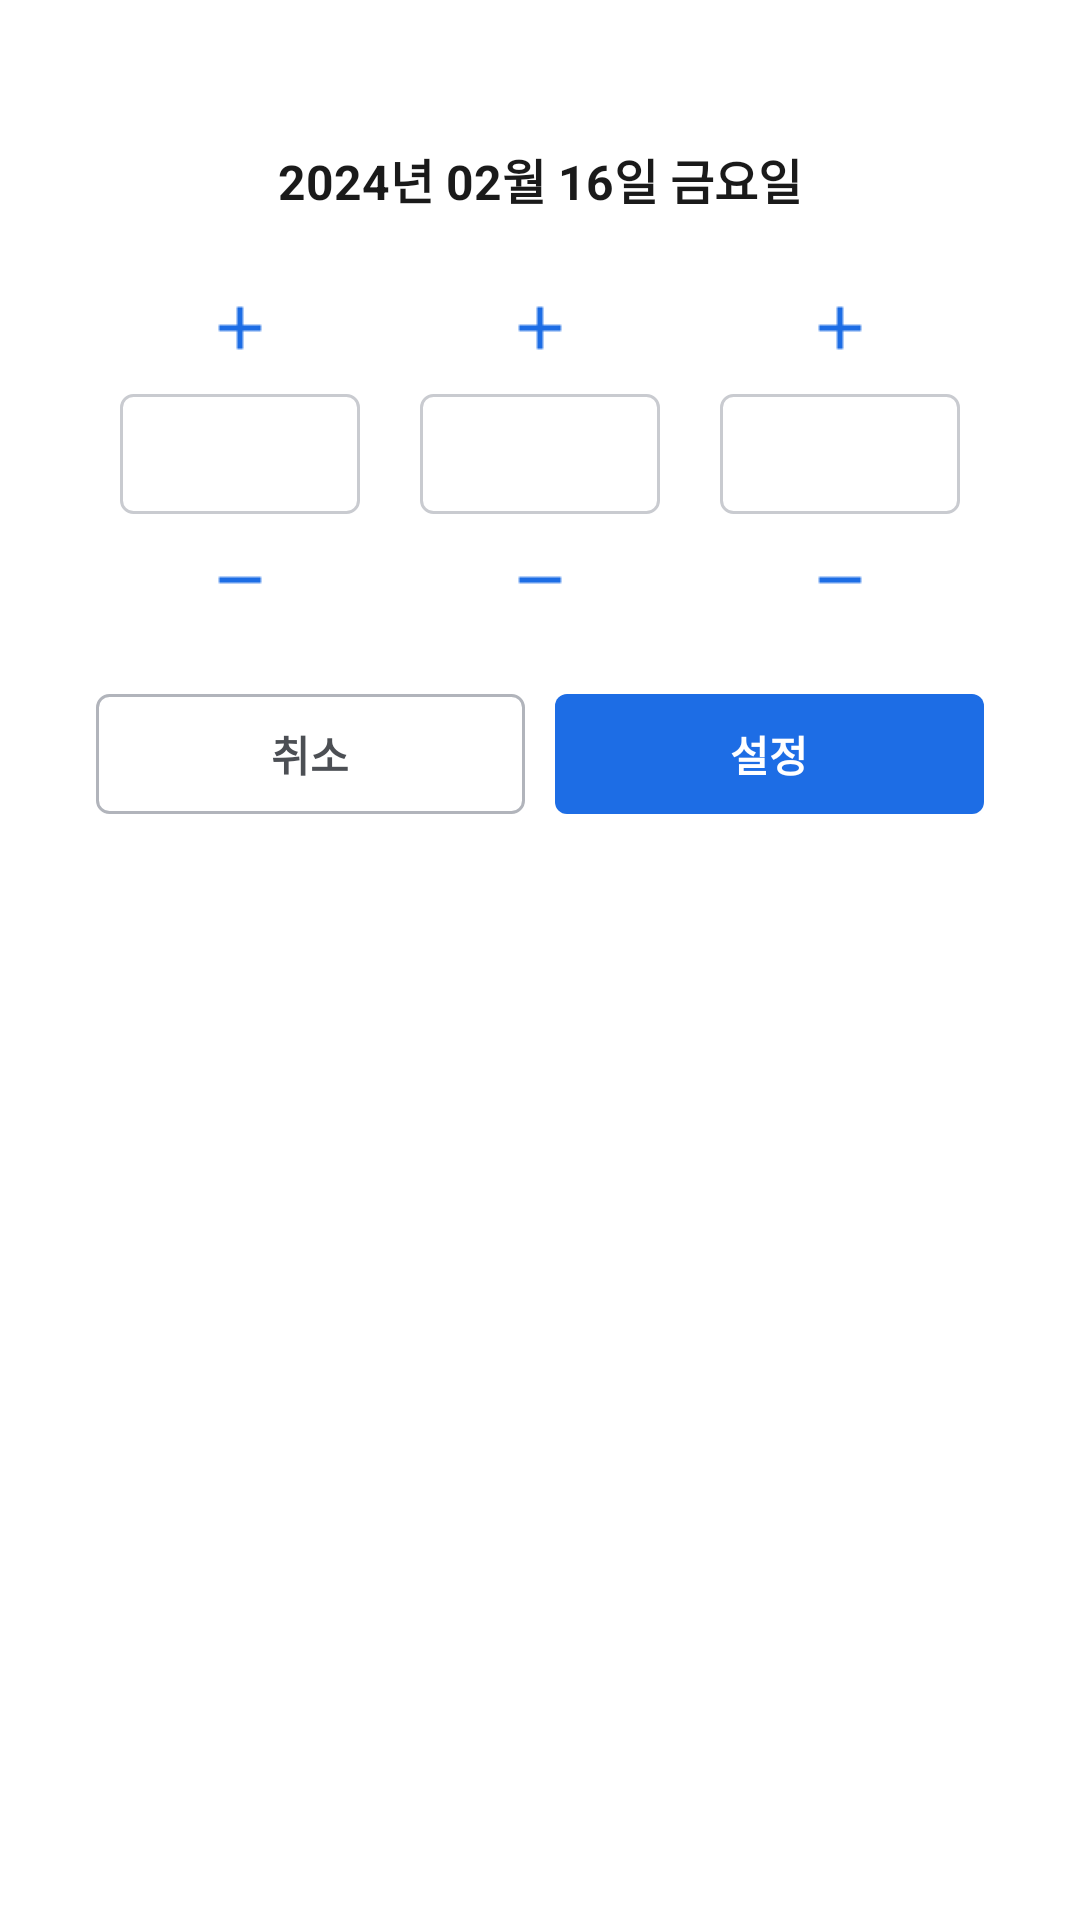

Where icons sit on this 1080px×1920px app screen, as (x1, y1, x2, y2):
add: (218, 306, 262, 350), (518, 306, 562, 350), (818, 306, 862, 350)
remove: (218, 576, 262, 584), (518, 576, 562, 584), (818, 576, 862, 584)
